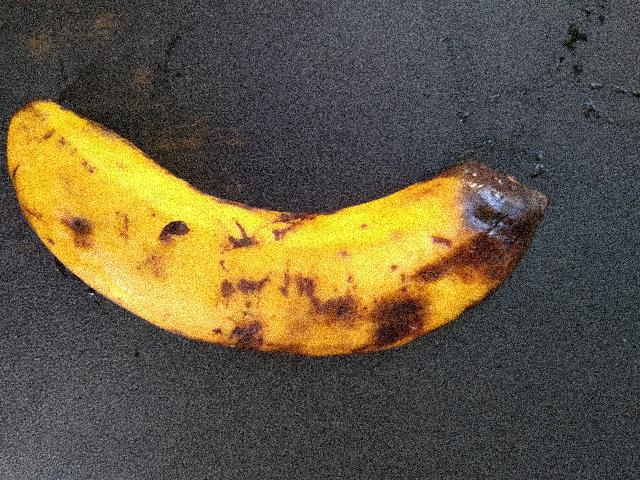overripe: (4, 75, 411, 401)
rotten: (333, 150, 568, 363)
